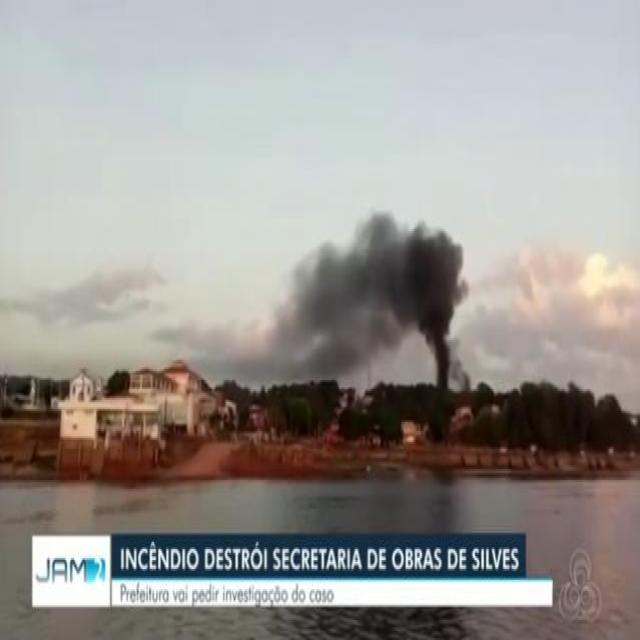Smoke: (262, 191, 481, 404)
